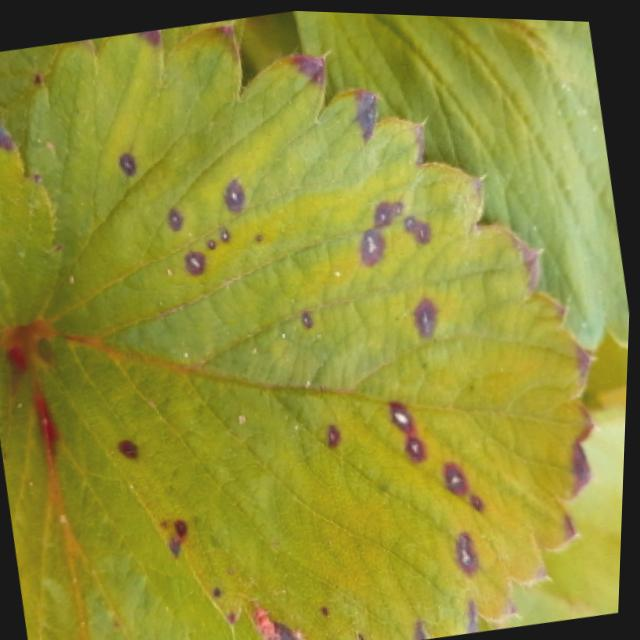Leaf Spot: (25, 23, 605, 640), (5, 353, 269, 640)
